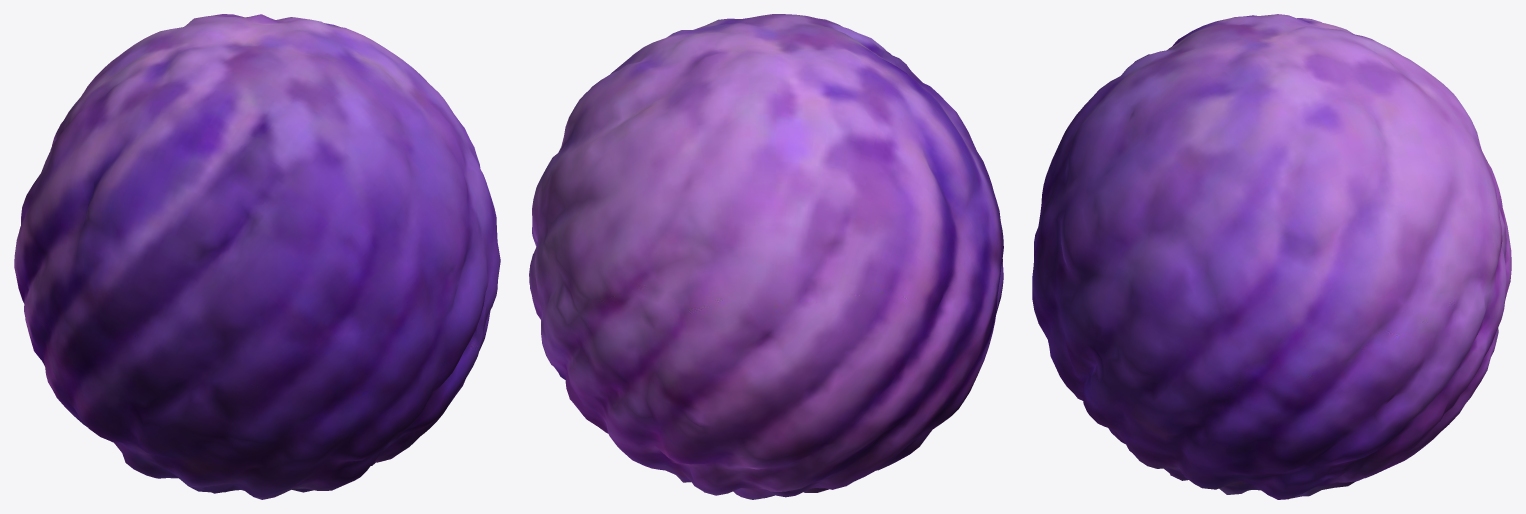
File: purplegumball.fbx
3 views of the same model, side by side, from view 1: azimuth 30°, elevation 25°; view 2: azimuth 150°, elevation 25°; view 3: azimuth 270°, elevation 25° (orthographic).
Visible parts, largest first — view 1: Mesh1; view 2: Mesh1; view 3: Mesh1.
Part boxes in pixels (<box>): Mesh1: <box>14,14,500,499</box>; Mesh1: <box>529,14,1003,499</box>; Mesh1: <box>1032,14,1511,499</box>.
Size of the model in its own units: 117 by 120 by 116.
Materials: 1 (1 with a texture image).
